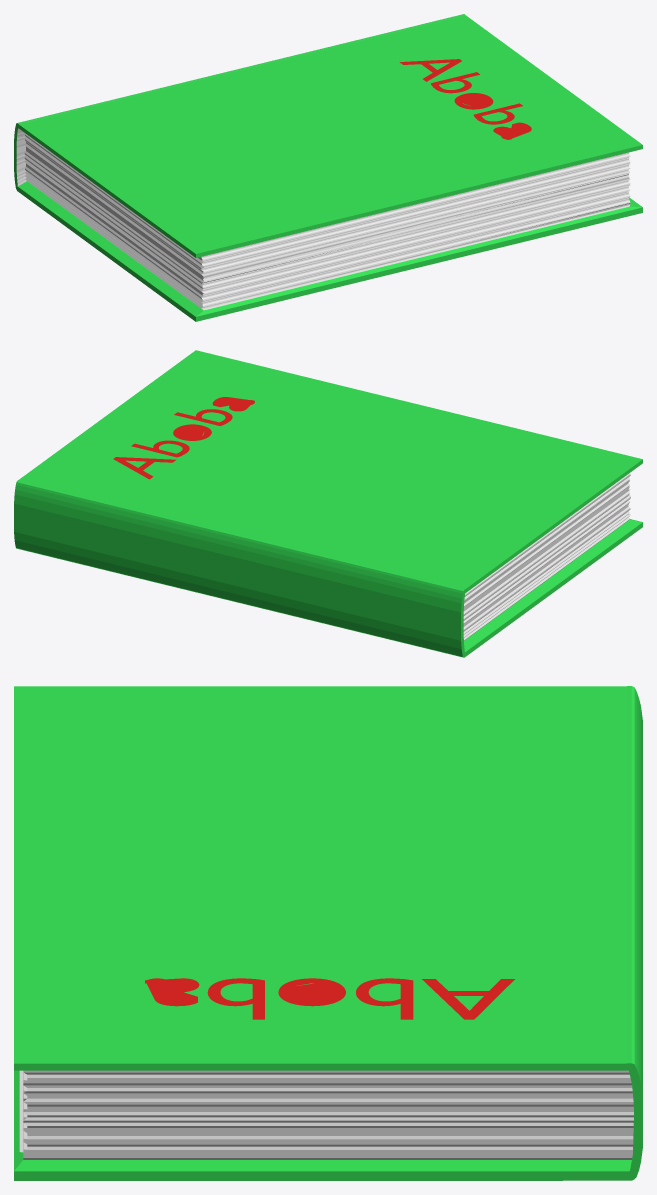
The model's file is Book.fbx.
3 renders of one model, top to bottom at view 1: azimuth 30°, elevation 25°; view 2: azimuth 150°, elevation 25°; view 3: azimuth 270°, elevation 25°, orthographic. The views are drawn at different scales.
Visible parts, largest first — view 1: Текст; view 2: Текст; view 3: Текст.
Part boxes in pixels (left/top/right/bottom): Текст: left=14, top=14, right=642, bottom=321; Текст: left=14, top=350, right=642, bottom=657; Текст: left=14, top=686, right=642, bottom=1180.
Bounding box in the file's own units: 0.344 × 0.2424 × 0.0505.
